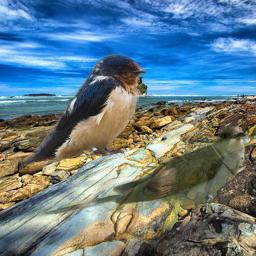Cuckoo: (38, 124, 246, 219)
Swallow: (21, 53, 148, 165)
